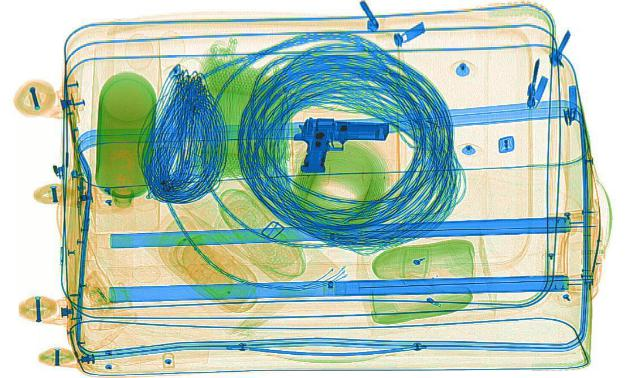Gun: (284, 116, 396, 175)
